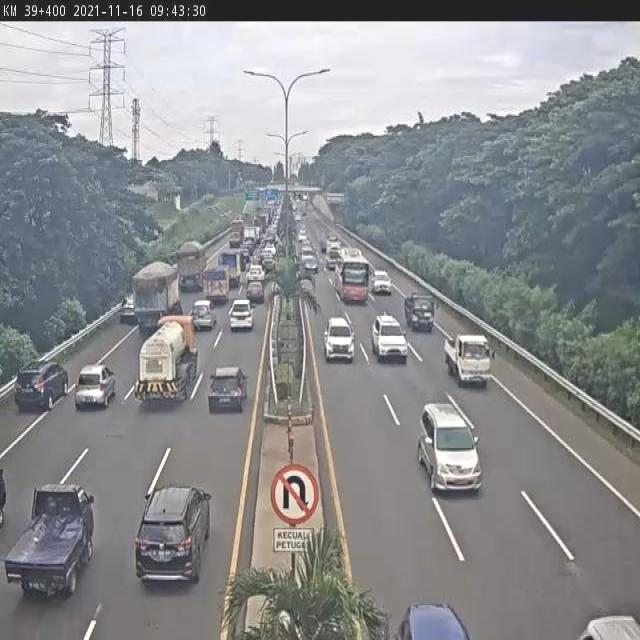Bus: (335, 242, 374, 302)
Car: (118, 466, 228, 600), (418, 401, 482, 492), (396, 600, 472, 640), (13, 360, 68, 412), (75, 364, 117, 410), (371, 312, 408, 363), (208, 365, 248, 412), (577, 613, 640, 639), (323, 316, 355, 363), (404, 292, 436, 332), (190, 300, 218, 332), (228, 299, 254, 331), (119, 295, 137, 325), (372, 270, 392, 294), (246, 279, 264, 304), (247, 264, 265, 285), (261, 250, 275, 272), (304, 254, 318, 274), (326, 250, 339, 270), (320, 238, 328, 252), (298, 228, 306, 242)
Truck: (3, 482, 94, 597), (133, 310, 196, 411), (130, 260, 182, 326), (444, 330, 492, 387), (172, 236, 206, 290), (202, 262, 232, 298), (219, 248, 240, 282), (224, 220, 246, 245)
